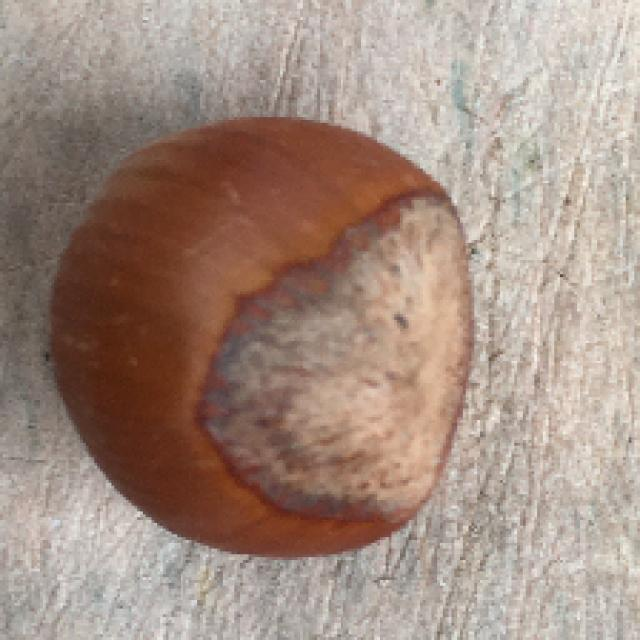qualityHazelnut: (45, 111, 480, 560)
